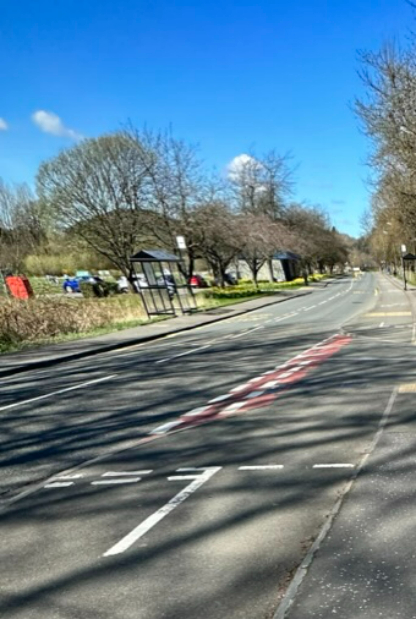car: (63, 270, 115, 299), (189, 264, 208, 290)
tree: (35, 133, 151, 281), (134, 114, 210, 277), (216, 202, 290, 281)
